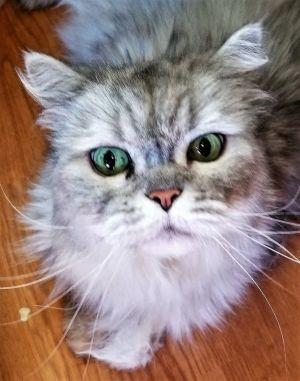persian: (1, 17, 292, 272)
